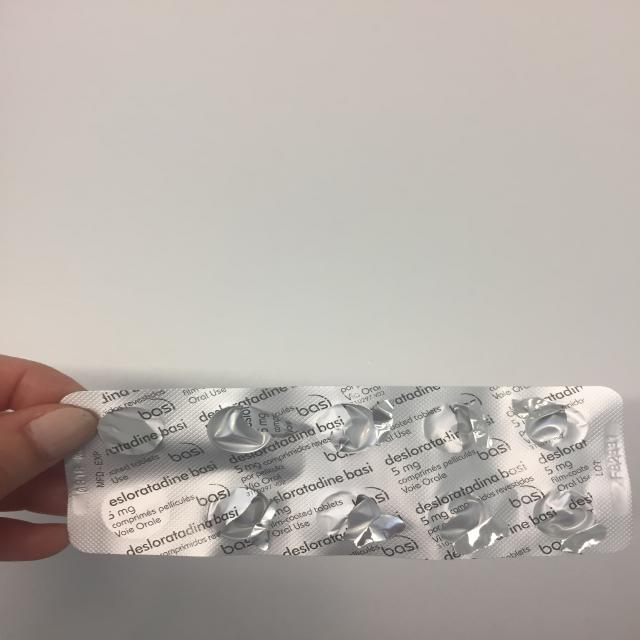Empty: (202, 485, 289, 549), (418, 492, 501, 555), (303, 400, 392, 454), (528, 486, 602, 550), (511, 395, 591, 453), (313, 490, 392, 548), (205, 403, 285, 457), (417, 401, 495, 455), (94, 404, 170, 458)
Pill: (97, 483, 176, 542)
